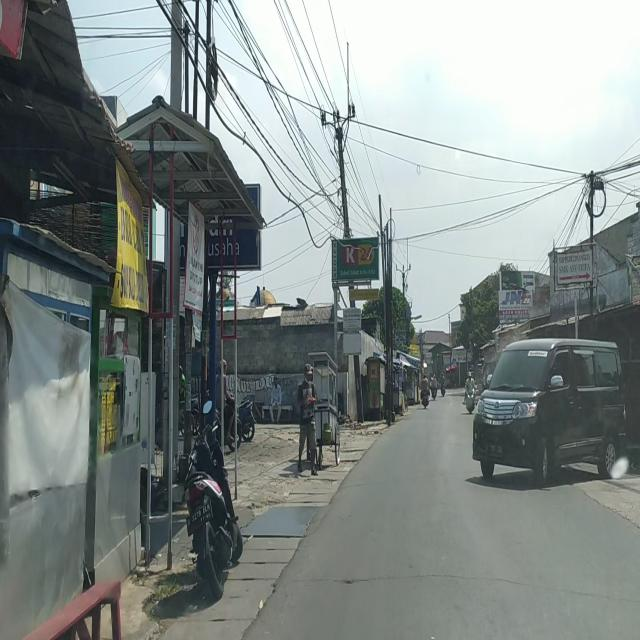Sewer Cover: (294, 569, 620, 598)
